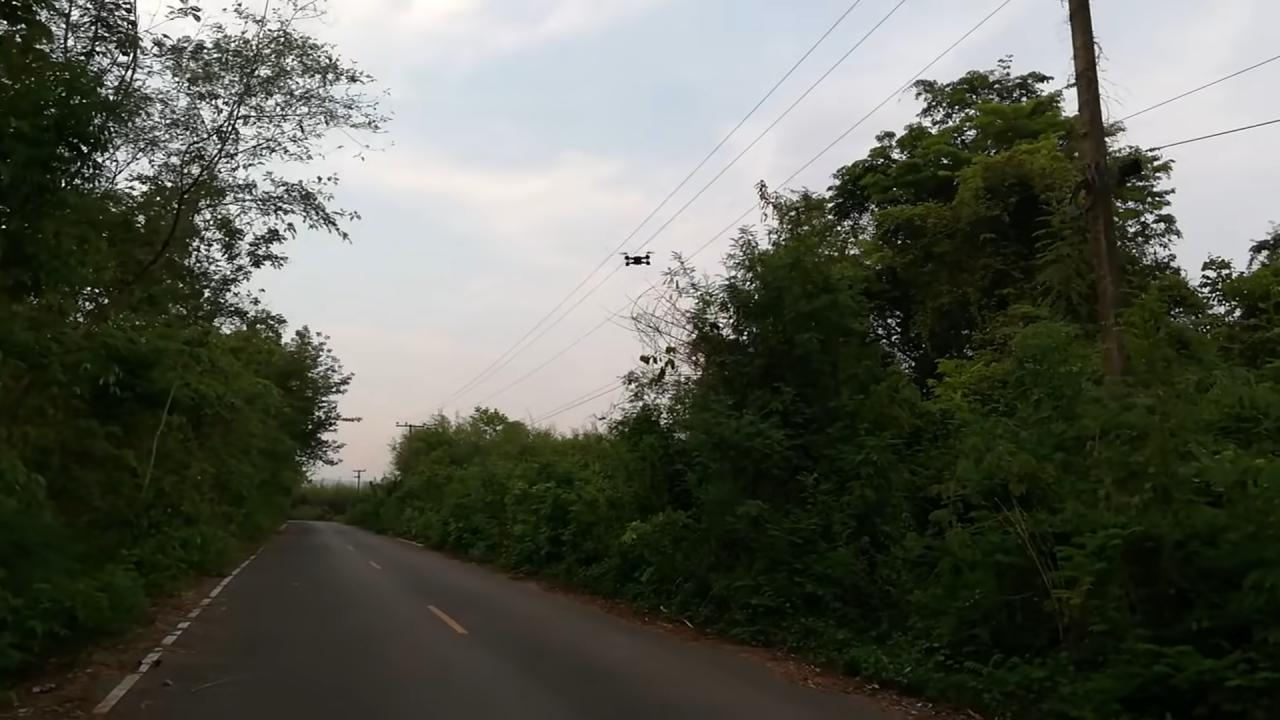Drone: (612, 244, 661, 274)
